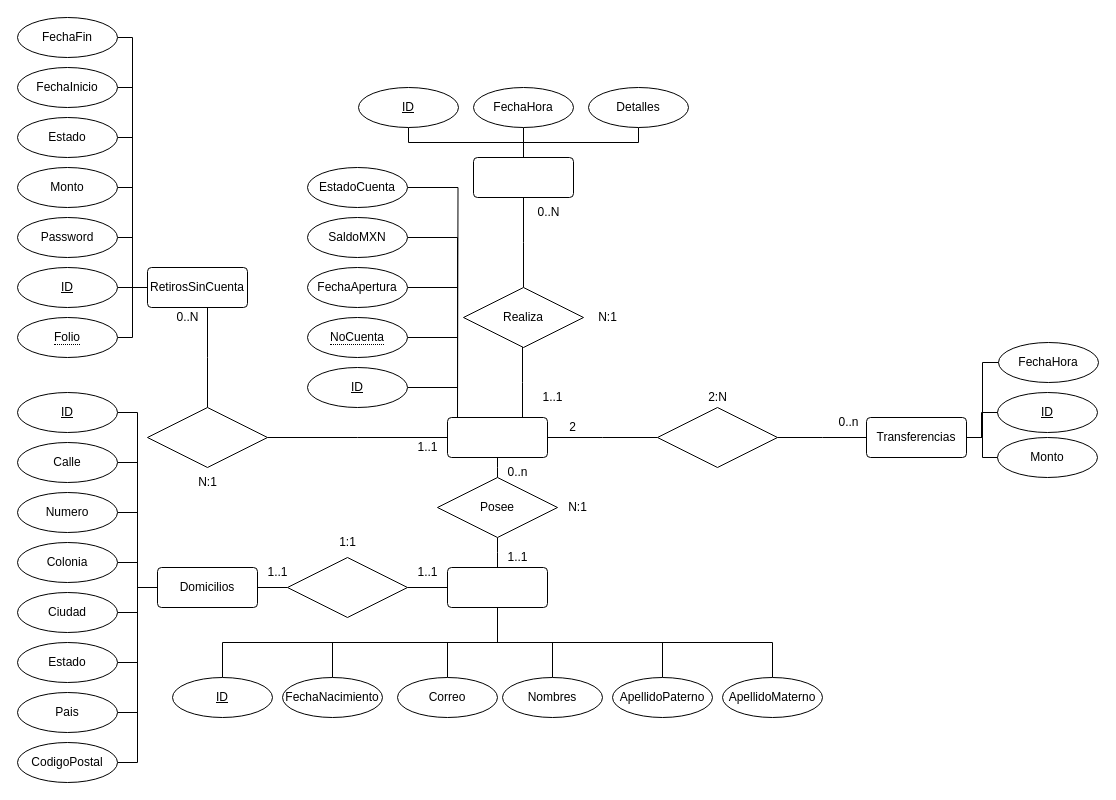
The diagram is 1116 pixels wide and 800 high, and some of its shapes have lost their labels. Each missing label, with the centre of its shape:
"Clientes" belongs at pixel 497 587.
"CuentasBancarias" belongs at pixel 497 437.
"Operaciones" belongs at pixel 523 177.
"Recide en" belongs at pixel 347 587.
"Retira de" belongs at pixel 207 437.
"Transfiere" belongs at pixel 717 437.
